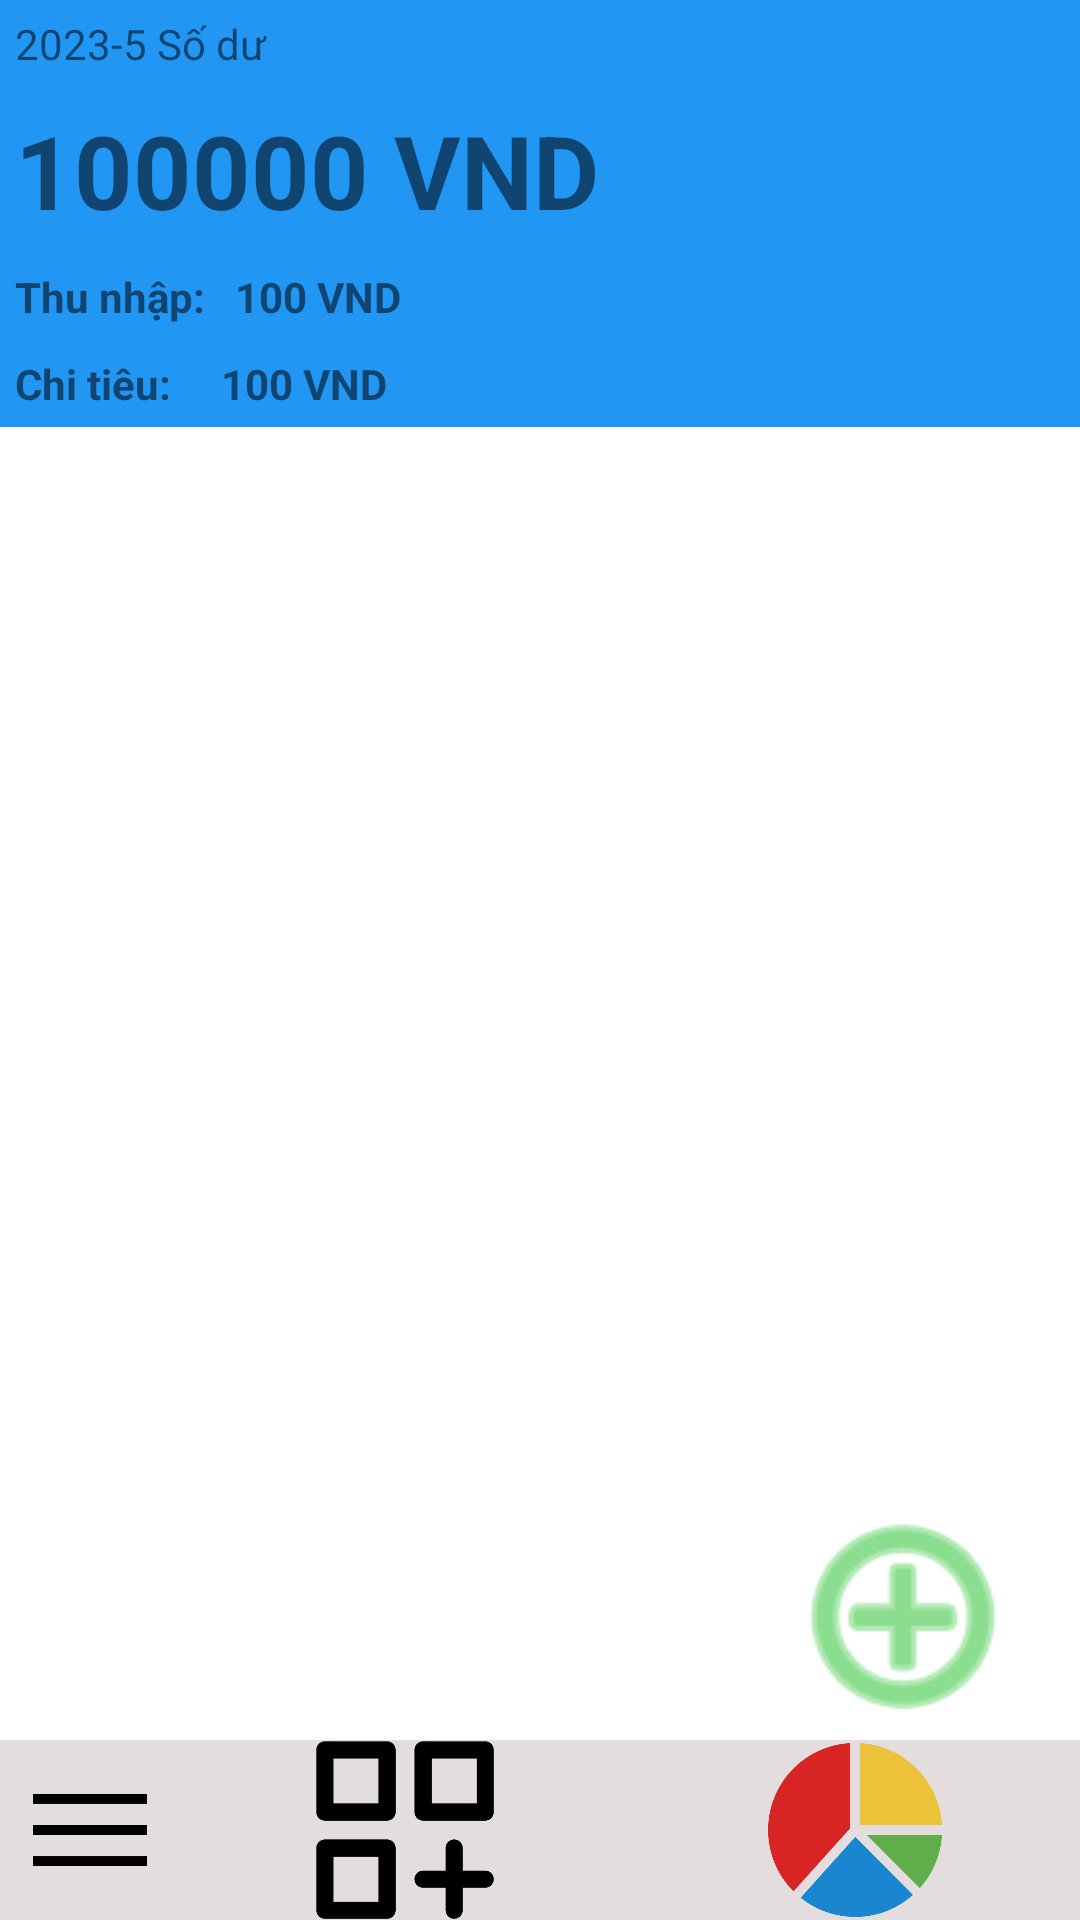

Icons on this 1080px×1920px Android screen, each with the point to tap as [x,y]:
add: [903,1616]
bieu do: [855,1830]
menu: [90,1830]
ungdung: [405,1830]
